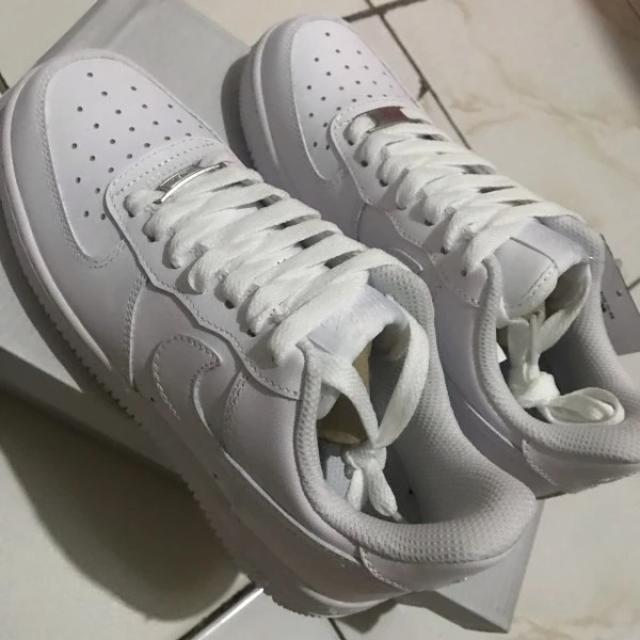nike original air force: (0, 47, 539, 622), (237, 14, 640, 506)
